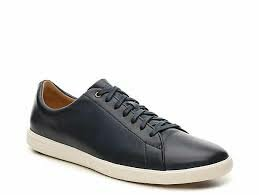Sneakers: (24, 77, 237, 189)
